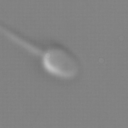normal: (1, 23, 44, 54)
